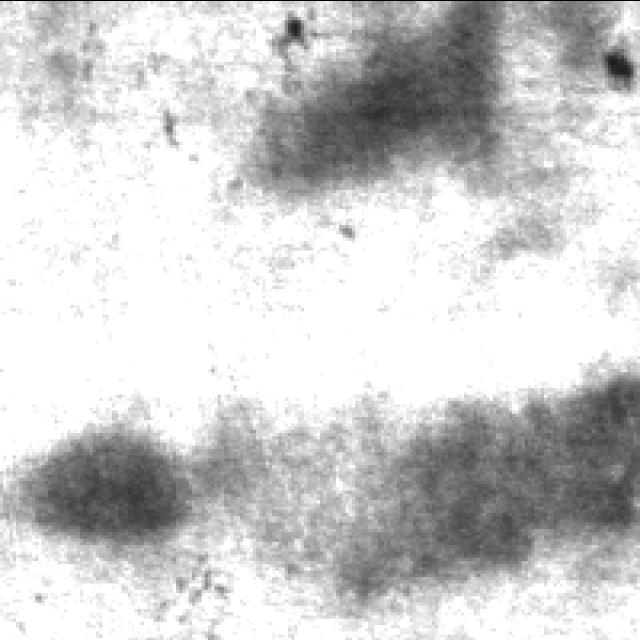patches: (313, 363, 640, 615), (220, 0, 531, 231), (16, 411, 207, 558)
